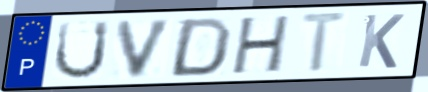D: (165, 15, 235, 78)
H: (229, 13, 294, 77)
K: (354, 12, 407, 71)
T: (297, 10, 352, 76)
U: (51, 19, 112, 82)
V: (114, 16, 177, 80)
